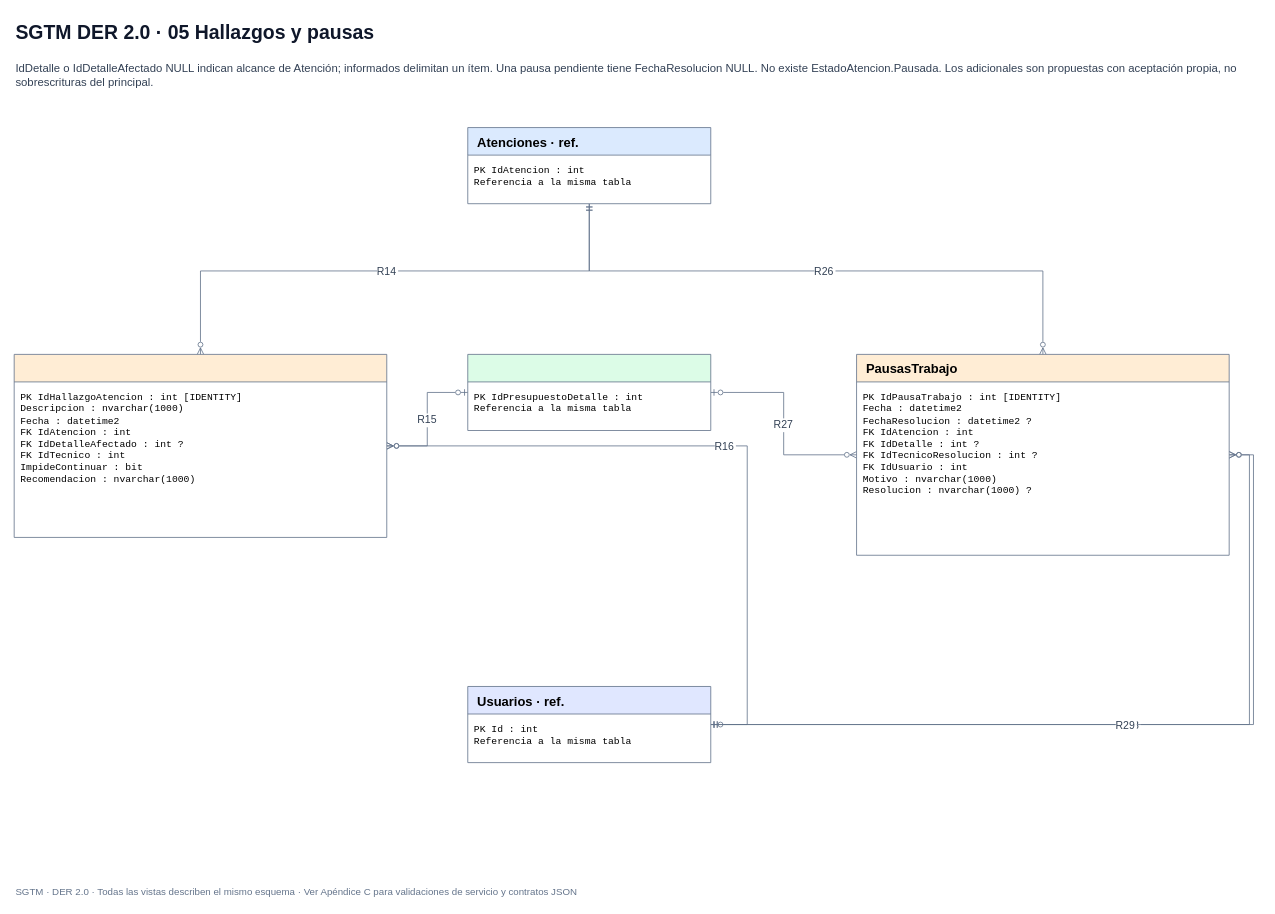
Some shapes in this 1275 by 914 pixel diagram are drawn without their labels. Here are the shapes that lost their labels. From the top down, the box of each, then its label:
(467, 354, 711, 431): PresupuestoDetalles · ref.
(13, 354, 387, 537): HallazgosAtencion
